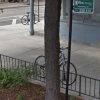Bicycle: (30, 42, 85, 90)
